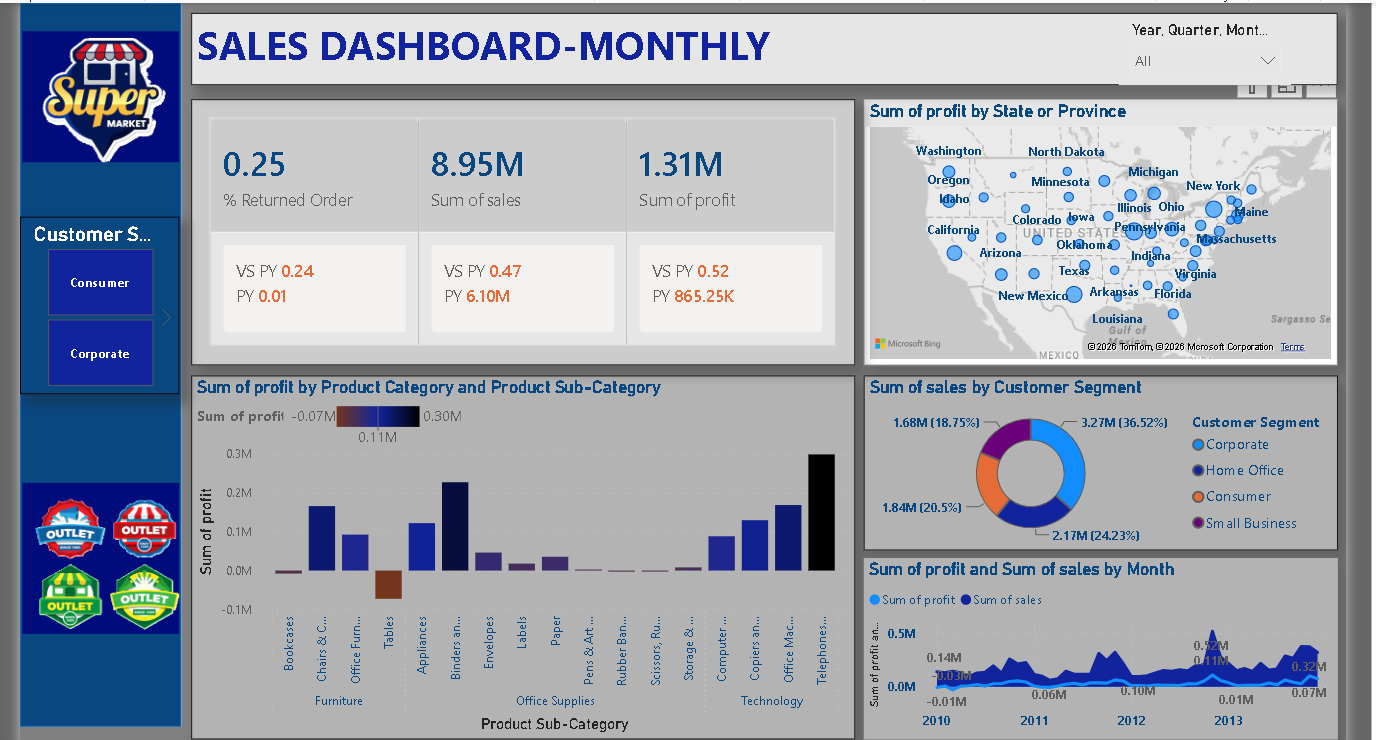

The page's visual inventory and layout, read from the dashboard file:
{"tool":"powerbi","page":{"name":"Page 1","canvas":[1280,720],"ordinal":0},"visuals":[{"type":"clusteredColumnChart","fields":{"Y":["Matrics.Sum of profit"],"Category":["Orders.Product Category","Orders.Product Sub-Category"]},"box":[165.3,359.5,640.6,351.1],"z":0},{"type":"donutChart","fields":{"Y":["Matrics.Sum of sales"],"Category":["Orders.Customer Segment"]},"box":[814.3,359.5,457.2,168.9],"z":1000},{"type":"map","fields":{"Category":["Orders.State or Province"],"Size":["Matrics.Sum of profit"]},"box":[814.3,92.9,457.2,257],"z":2000},{"type":"cardVisual","fields":{"Data":["Matrics.% Returned Order","Matrics.Sum of sales","Matrics.Sum of profit"]},"box":[165.1,92.9,640.8,256.8],"z":3000},{"type":"shape","box":[0,0,155.6,698.5],"z":4000},{"type":"textbox","box":[165.3,10,1106.3,70],"z":5000},{"type":"slicer","fields":{"Values":["data table.Date.Variation.Date Hierarchy.Year","data table.Date.Variation.Date Hierarchy.Quarter","data table.Date.Variation.Date Hierarchy.Month","data table.Date.Variation.Date Hierarchy.Day"]},"box":[1060.5,12.1,166.5,67.6],"z":6000},{"type":"lineChart","title":"Sum of profit and Sum of sales by Month","fields":{"Y":["Matrics.Sum of profit","Matrics.Sum of sales"],"Category":["data table.START MONTH.Variation.Date Hierarchy.Year","data table.START MONTH.Variation.Date Hierarchy.Quarter","data table.START MONTH.Variation.Date Hierarchy.Month","data table.START MONTH.Variation.Date Hierarchy.Day"]},"box":[814.3,535.7,457.2,174.9],"z":7000},{"type":"slicer","fields":{"Values":["Orders.Customer Segment"]},"box":[0,206.3,153.2,171.3],"z":8000},{"type":"image","box":[2.4,9.7,150.8,161.7],"z":10001},{"type":"image","box":[2.4,456,150.8,159.3],"z":10002}]}

Visuals, with their boxes in screenshot pixels (x1, y1, x2, y2):
clusteredColumnChart - Matrics.Sum of profit x Orders.Product Category: box(185, 375, 860, 739)
donutChart - Matrics.Sum of sales x Orders.Customer Segment: box(868, 375, 1350, 553)
map - Orders.State or Province x Matrics.Sum of profit: box(868, 94, 1350, 365)
cardVisual - Matrics.% Returned Order x Matrics.Sum of sales: box(185, 94, 860, 365)
shape: box(11, 0, 175, 732)
textbox: box(185, 7, 1350, 81)
slicer - data table.Date.Variation.Date Hierarchy.Year x data table.Date.Variation.Date Hierarchy.Quarter: box(1128, 9, 1303, 80)
"Sum of profit and Sum of sales by Month" lineChart: box(868, 561, 1350, 739)
slicer - Orders.Customer Segment: box(11, 214, 172, 394)
image: box(13, 7, 172, 177)
image: box(13, 477, 172, 645)
